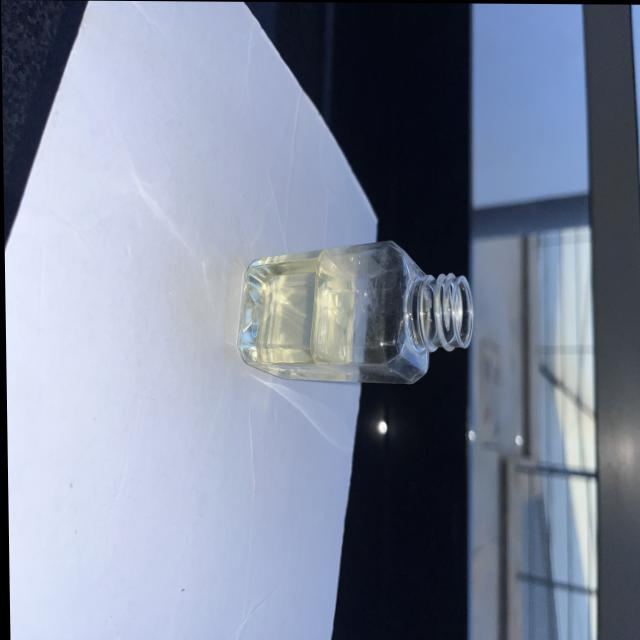oil: (232, 251, 352, 380)
